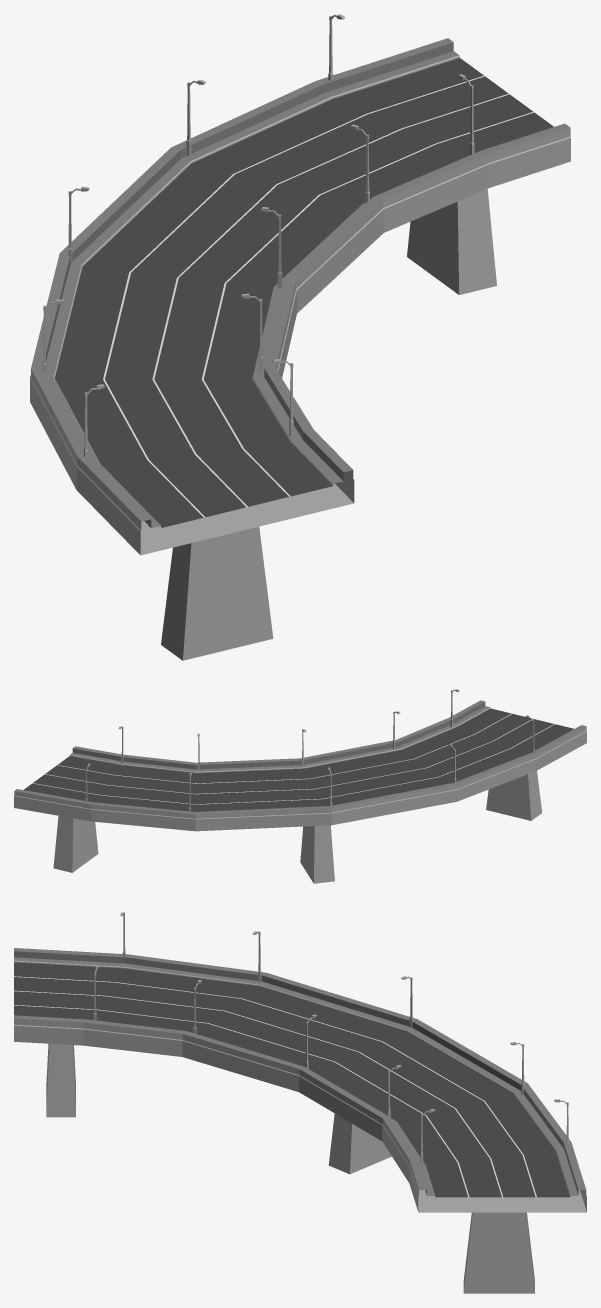
Rendered from curveHighway.glb.
3 views of the same model, one above another, from view 1: azimuth 30°, elevation 25°; view 2: azimuth 150°, elevation 25°; view 3: azimuth 270°, elevation 25° (orthographic). The views are drawn at different scales.
Visible parts, largest first — view 1: Highway_Curve_2_mesh; view 2: Highway_Curve_2_mesh; view 3: Highway_Curve_2_mesh.
Part boxes in pixels (left/top/right/bottom): Highway_Curve_2_mesh: left=30, top=14, right=570, bottom=660; Highway_Curve_2_mesh: left=14, top=689, right=586, bottom=883; Highway_Curve_2_mesh: left=14, top=912, right=586, bottom=1293.
Bounding box in the file's own units: 85 × 26.97 × 85.
Materials: 2 (1 with a texture image).
